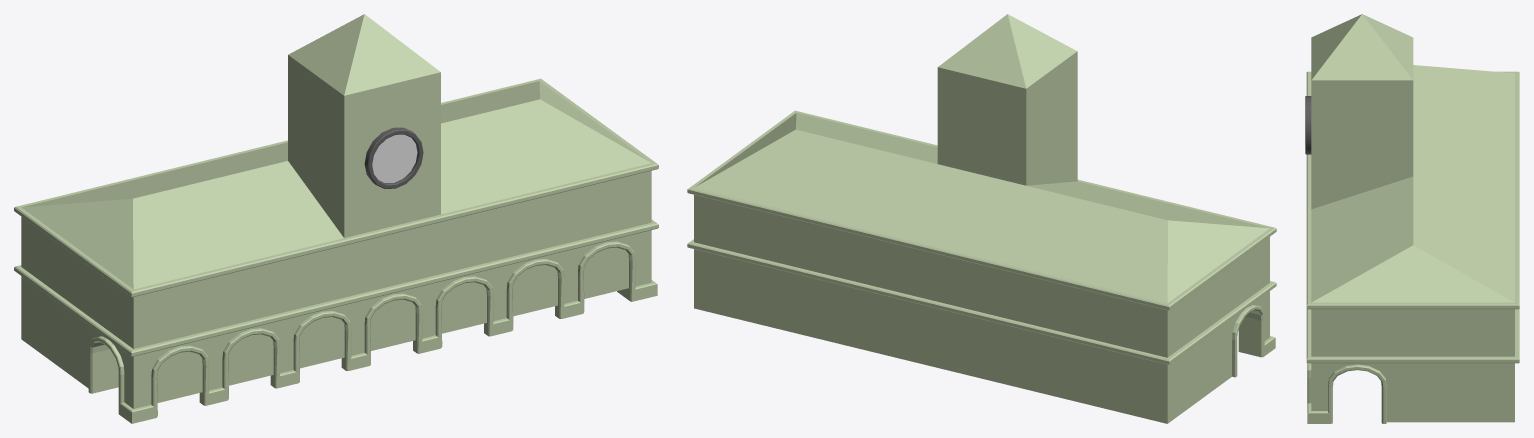
Rendered from ayuntamiento.fbx.
The picture shows the model from 3 angles, left to right: view 1: azimuth 30°, elevation 25°; view 2: azimuth 150°, elevation 25°; view 3: azimuth 270°, elevation 25°; orthographic projection. The views are drawn at different scales.
Parts seen in each view (by area): view 1: ayuntamiento1, pCylinder86; view 2: ayuntamiento1; view 3: ayuntamiento1, pCylinder86.
Part boxes in pixels (x1,y1,x2,y2): ayuntamiento1: (14, 14, 658, 423); pCylinder86: (364, 127, 423, 188); ayuntamiento1: (687, 14, 1276, 423); ayuntamiento1: (1306, 14, 1519, 423); pCylinder86: (1305, 96, 1311, 154).
Bounding box in the file's own units: 4072 × 2388 × 1582.
